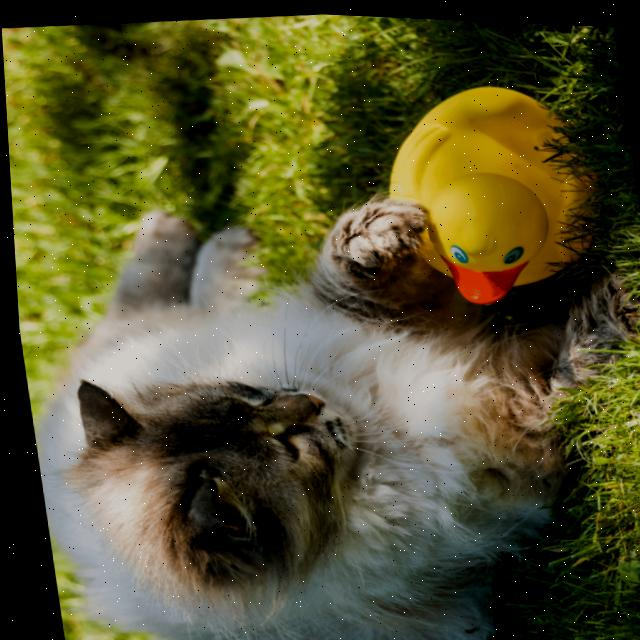Neva Masquerade: (7, 156, 640, 640)
